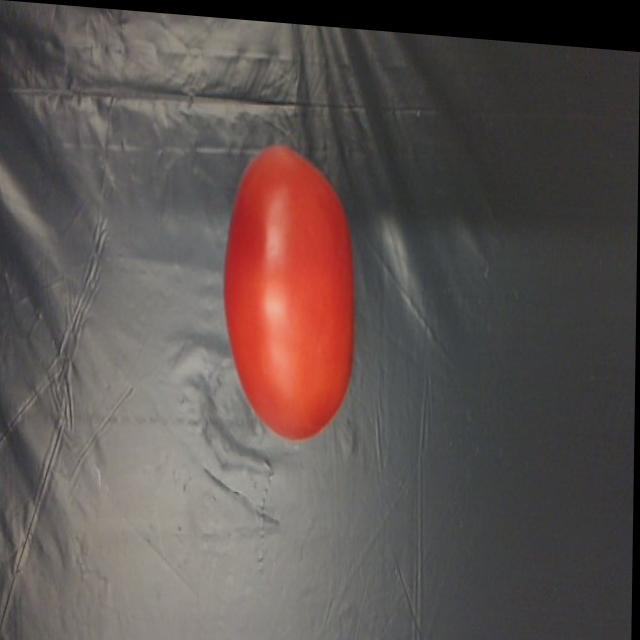kirmizi: (234, 145, 376, 455)
